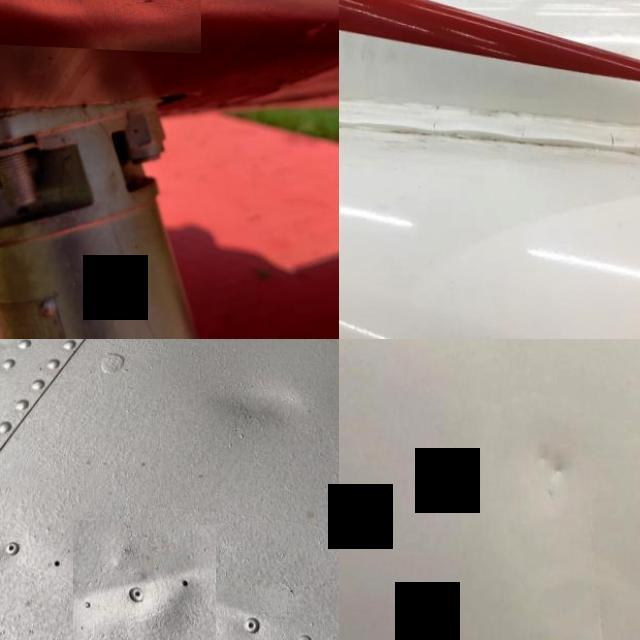Crack: (339, 88, 640, 164)
Dent: (72, 518, 216, 640), (198, 339, 339, 459), (0, 0, 201, 49), (533, 442, 571, 478)
